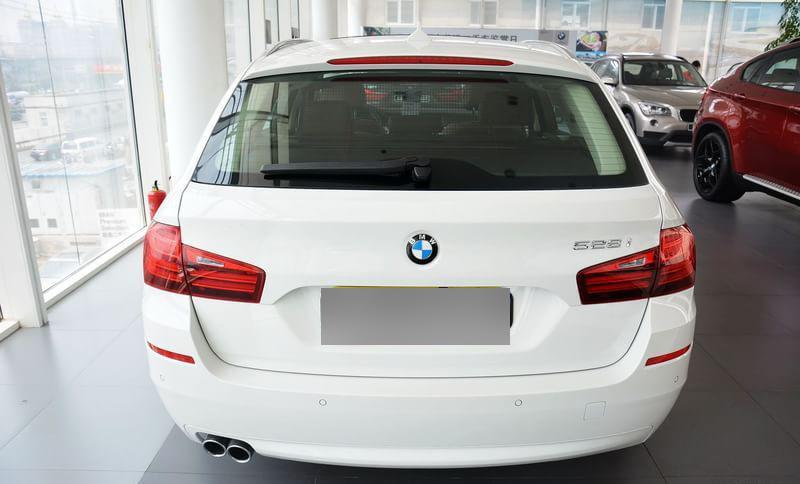Wagon: (141, 20, 698, 471)
